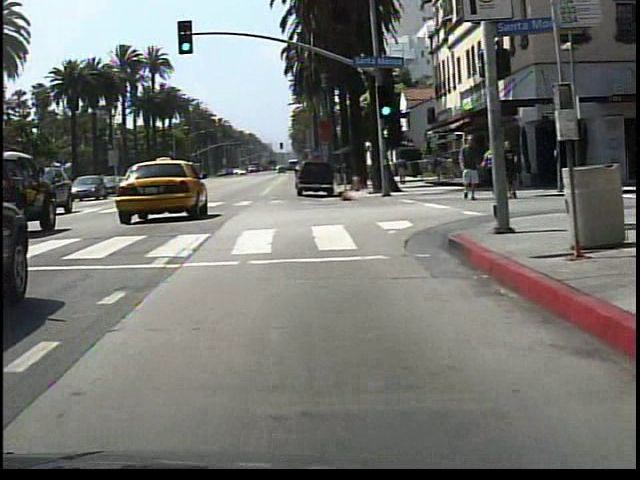person: (454, 133, 483, 206)
